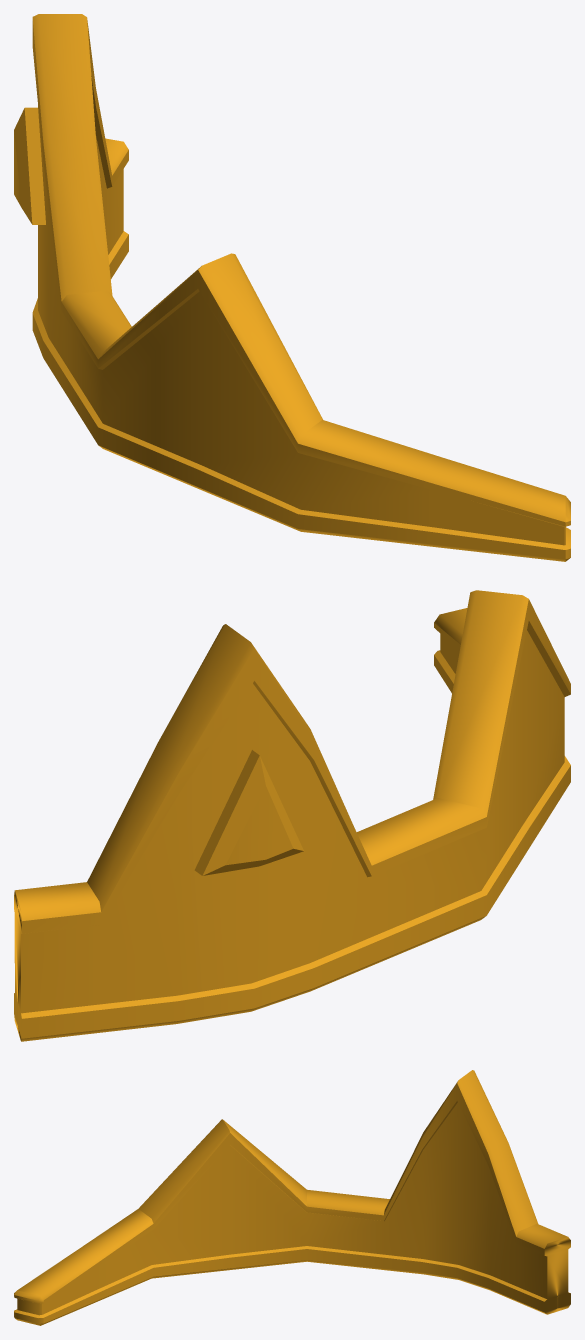
Rendered from CrownPiece3.fbx.
3 views of the same model, one above another, from view 1: azimuth 30°, elevation 25°; view 2: azimuth 150°, elevation 25°; view 3: azimuth 270°, elevation 25° (orthographic). The views are drawn at different scales.
Visible parts, largest first — view 1: CrownPiece3; view 2: CrownPiece3; view 3: CrownPiece3.
Part boxes in pixels (left/top/right/bottom): CrownPiece3: left=14, top=14, right=570, bottom=561; CrownPiece3: left=14, top=590, right=570, bottom=1041; CrownPiece3: left=14, top=1070, right=570, bottom=1325.
Size of the model in its own units: 54.5 by 65.01 by 163.
